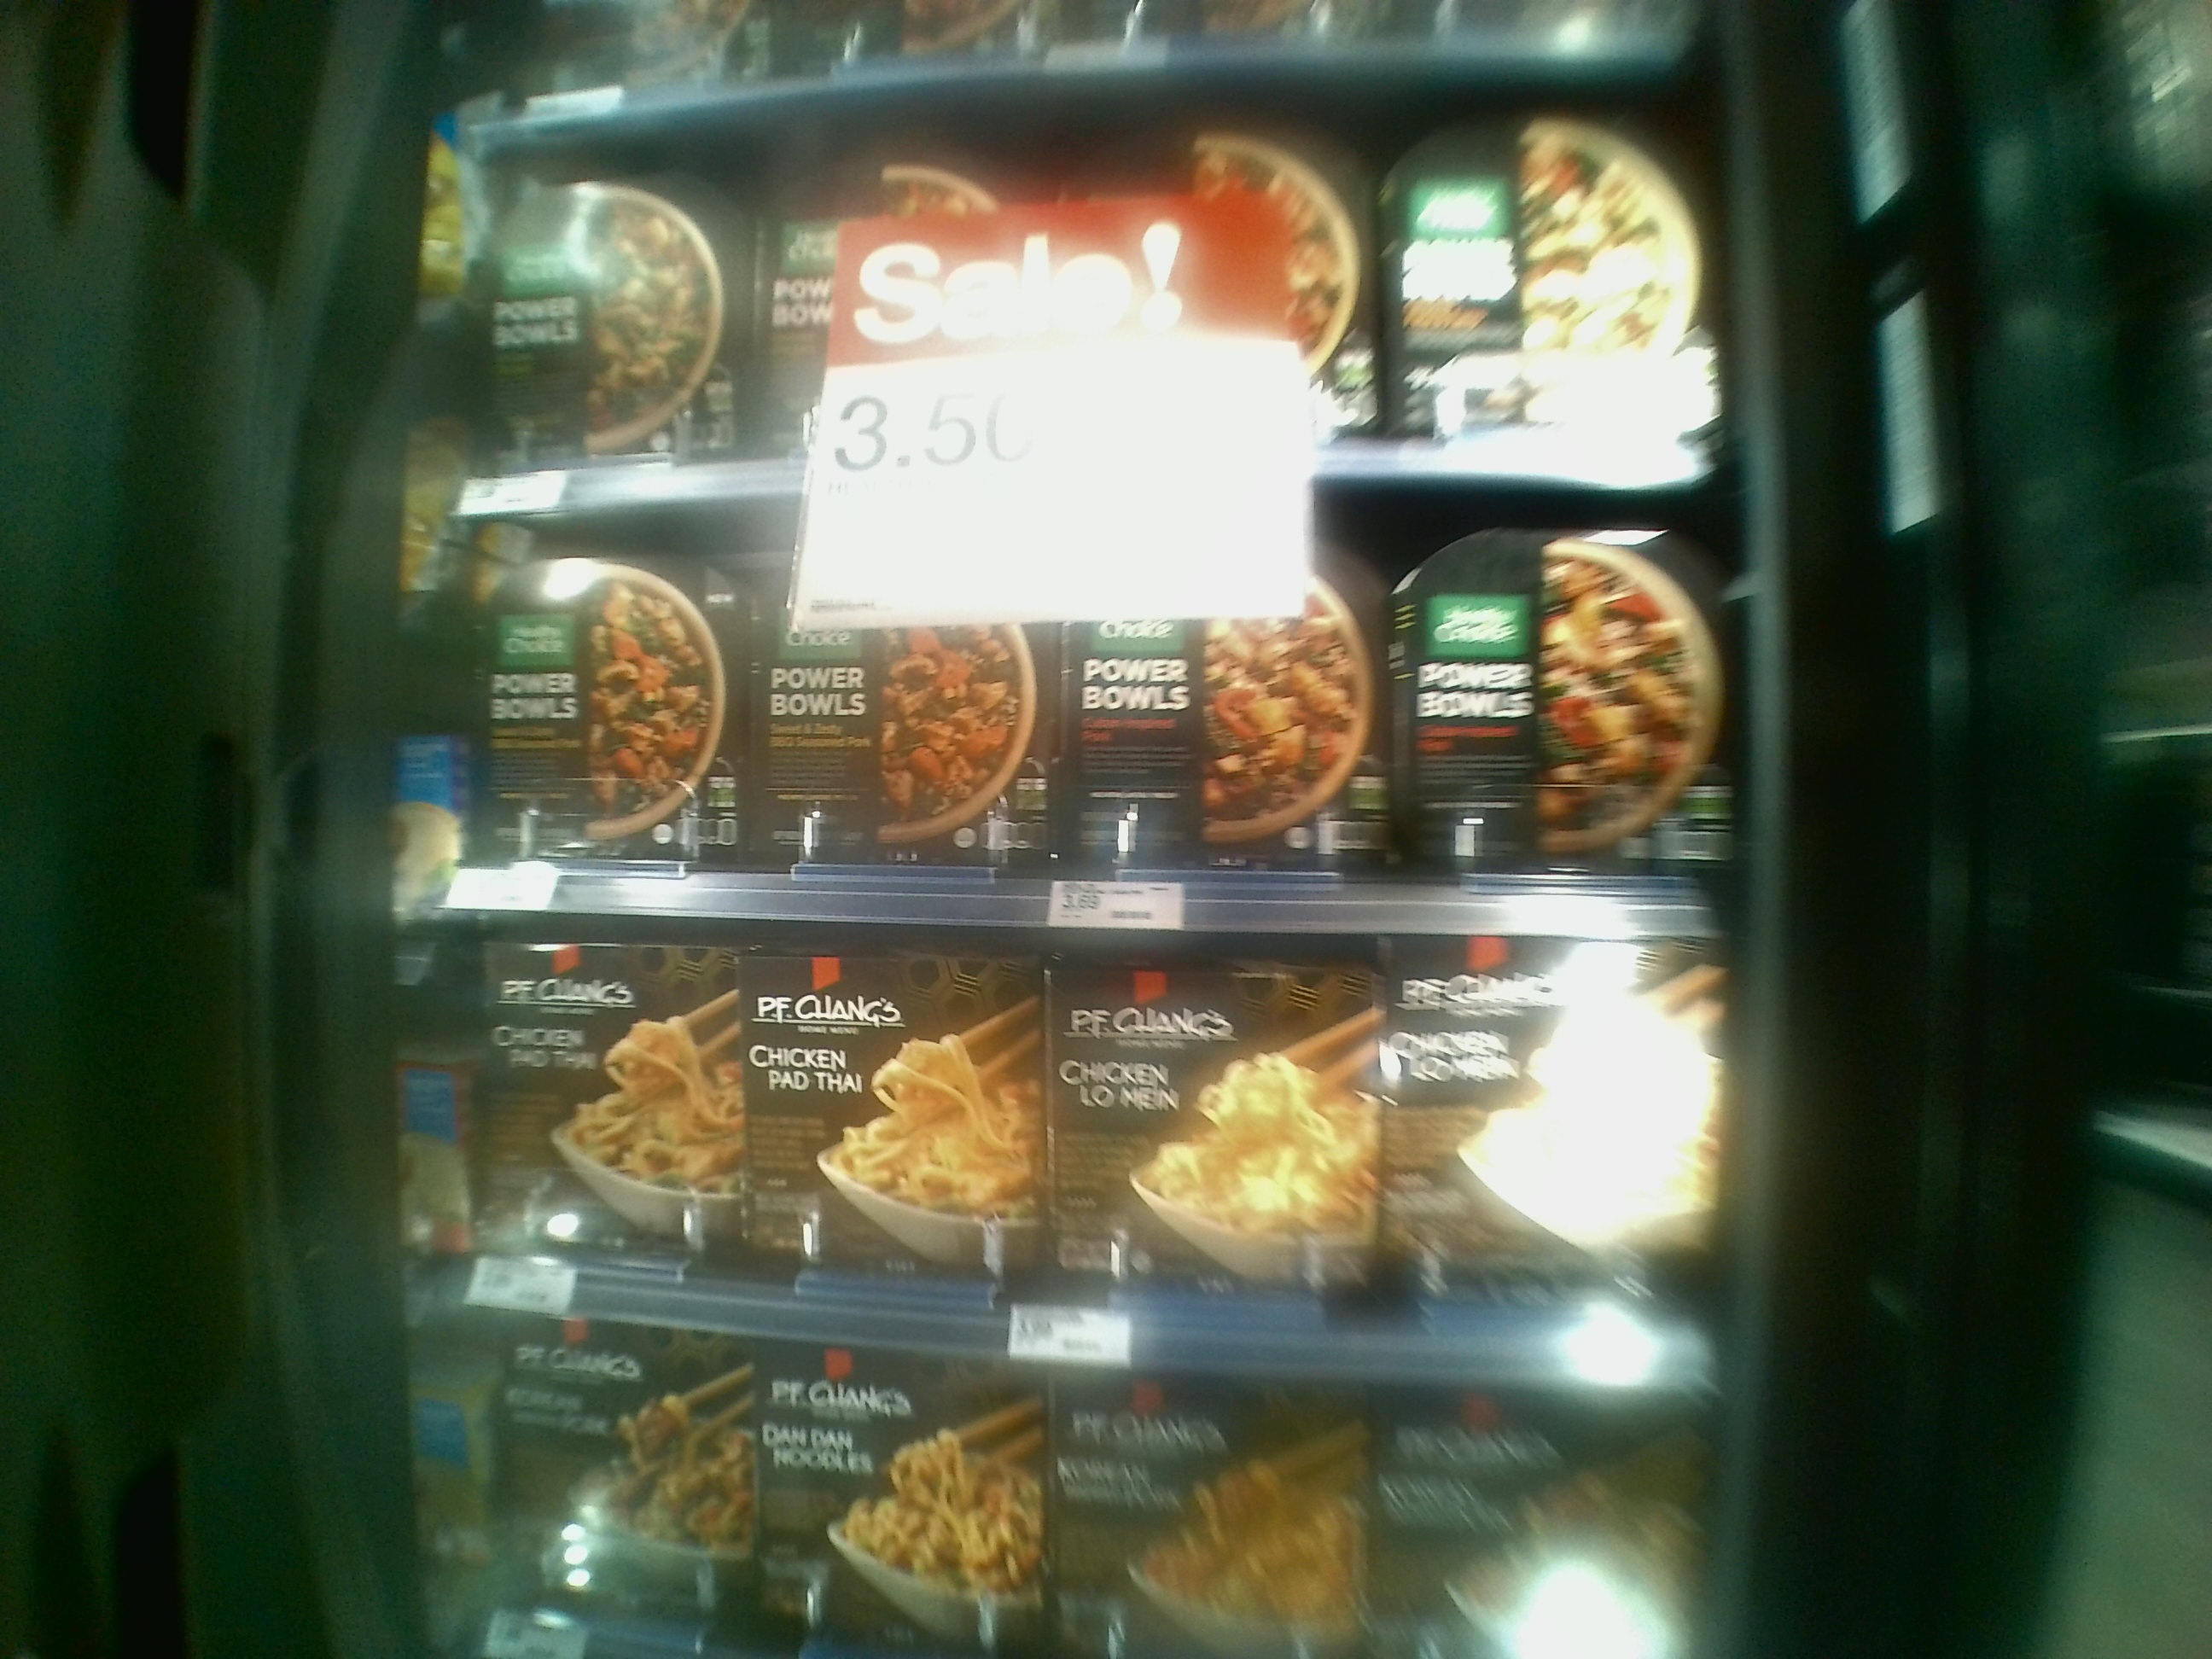shelf: (451, 894, 1721, 1399), (448, 477, 1709, 938), (469, 84, 1731, 502)
